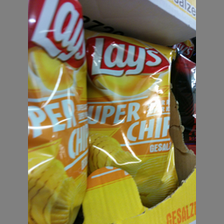chips: (85, 28, 183, 206), (27, 1, 87, 223)
